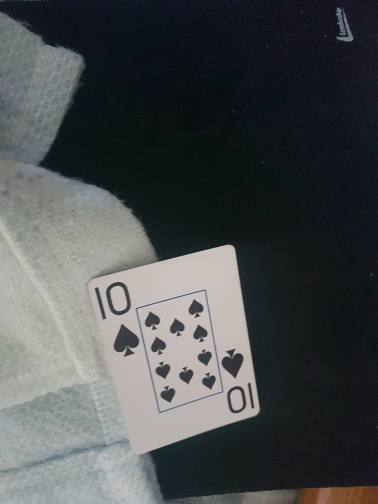ten: (86, 243, 262, 455)
